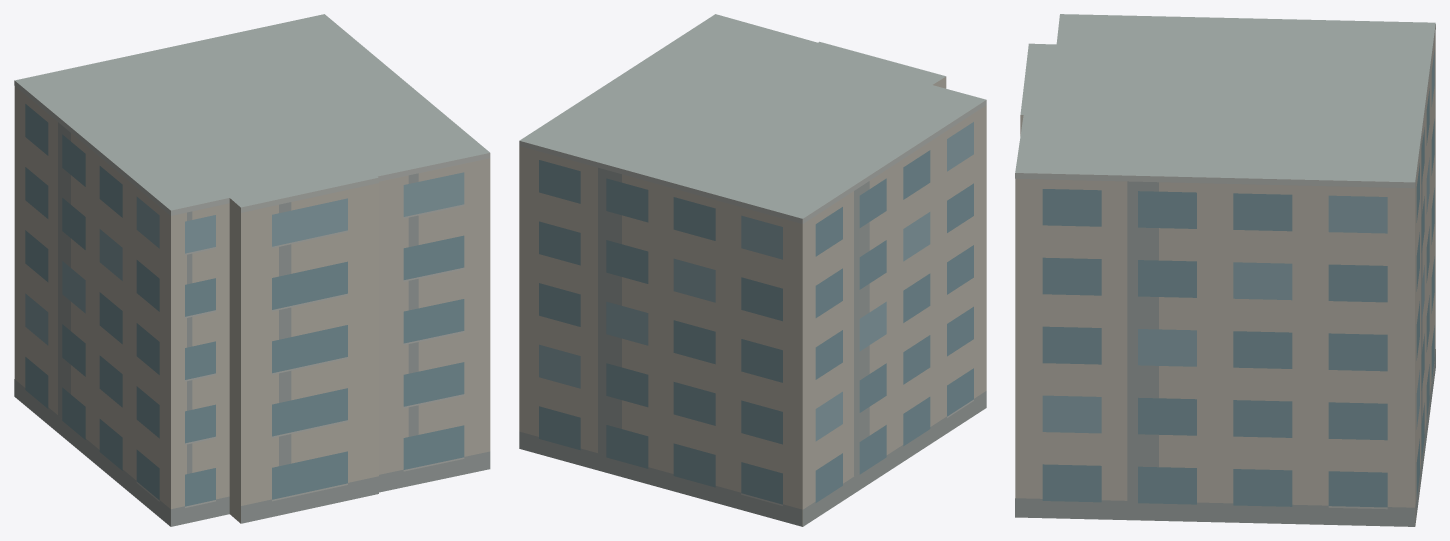
The model's file is survey-upis-32969776.glb.
The picture shows the model from 3 angles, left to right: view 1: azimuth 30°, elevation 25°; view 2: azimuth 150°, elevation 25°; view 3: azimuth 270°, elevation 25°; orthographic projection. The views are drawn at different scales.
Parts seen in each view (by area): view 1: survey-upis-32969776.tmp; view 2: survey-upis-32969776.tmp; view 3: survey-upis-32969776.tmp.
Boxes of the visible parts, left/top/right/bottom form: survey-upis-32969776.tmp: left=14, top=14, right=490, bottom=526; survey-upis-32969776.tmp: left=519, top=14, right=986, bottom=526; survey-upis-32969776.tmp: left=1015, top=14, right=1435, bottom=526.
Bounding box in the file's own units: 15.03 × 14.33 × 15.87.
